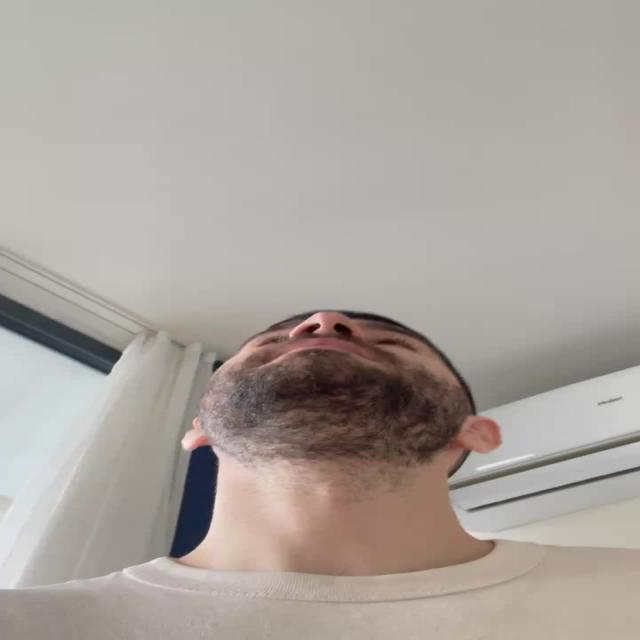earlobe: (461, 416, 505, 454)
